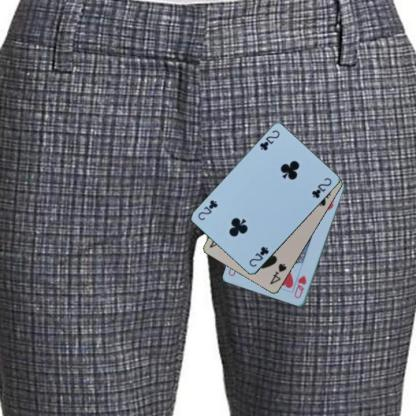2c: (257, 128, 281, 152), (247, 244, 270, 268)
4s: (267, 261, 288, 286)
Qh: (292, 273, 308, 300)
